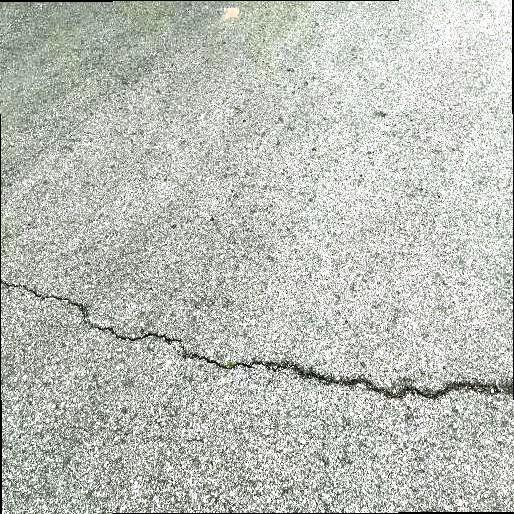Melintang: (0, 268, 514, 409)
